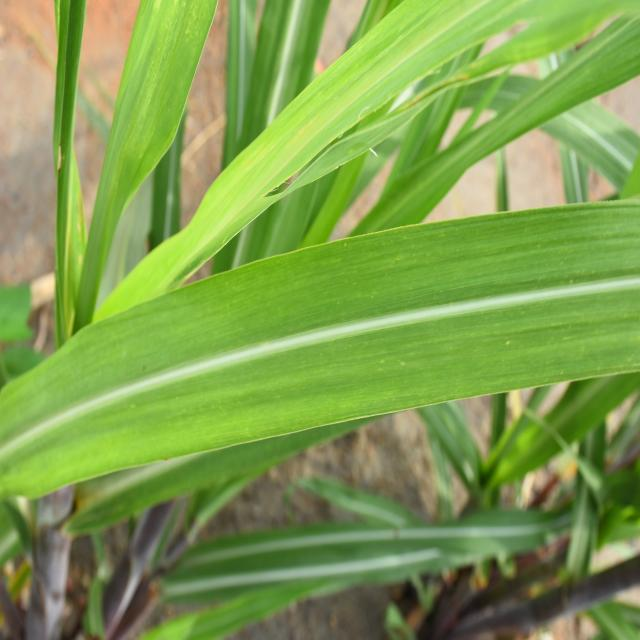Sugarcane: (0, 199, 640, 497)
